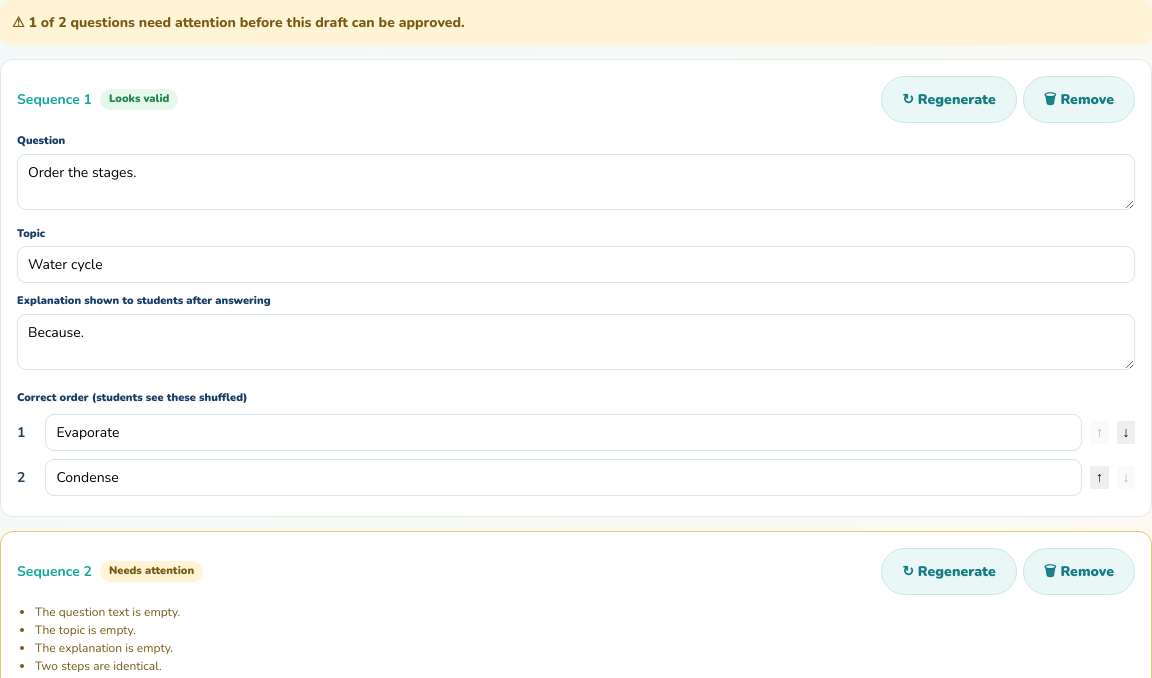
review can regenerate one question after confirmation and refreshes the draft
What coordinates should you click on to do the following:
click the button "↻ Regenerate" in the row of "Looks valid"
I would click on:
 (949, 100)
Its box is 881,76 -> 1017,123.
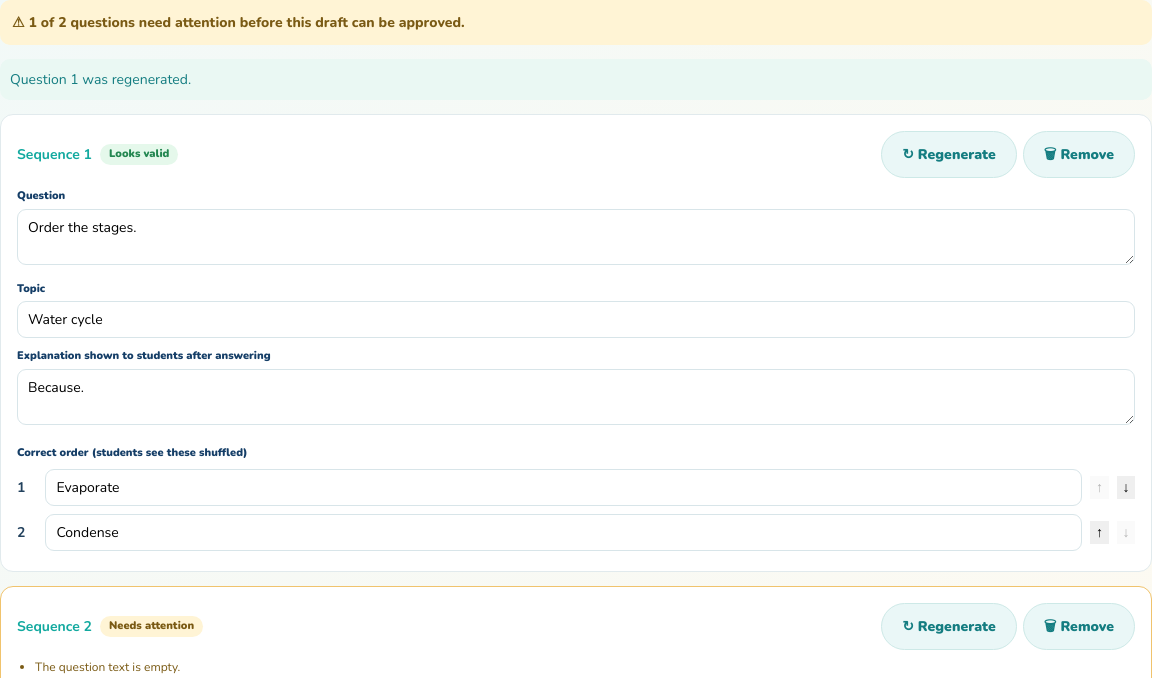
Check: the message "Question 1 was regenerated." is shown, box 0,59 -> 1151,100
